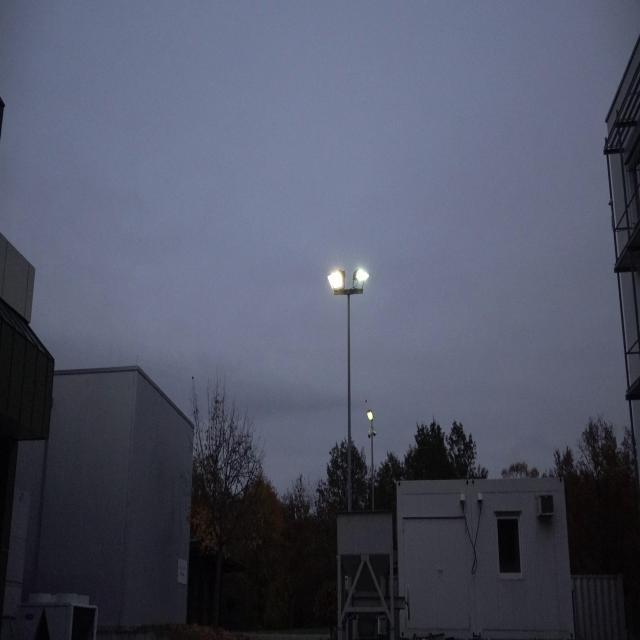drone: (361, 394, 372, 406)
